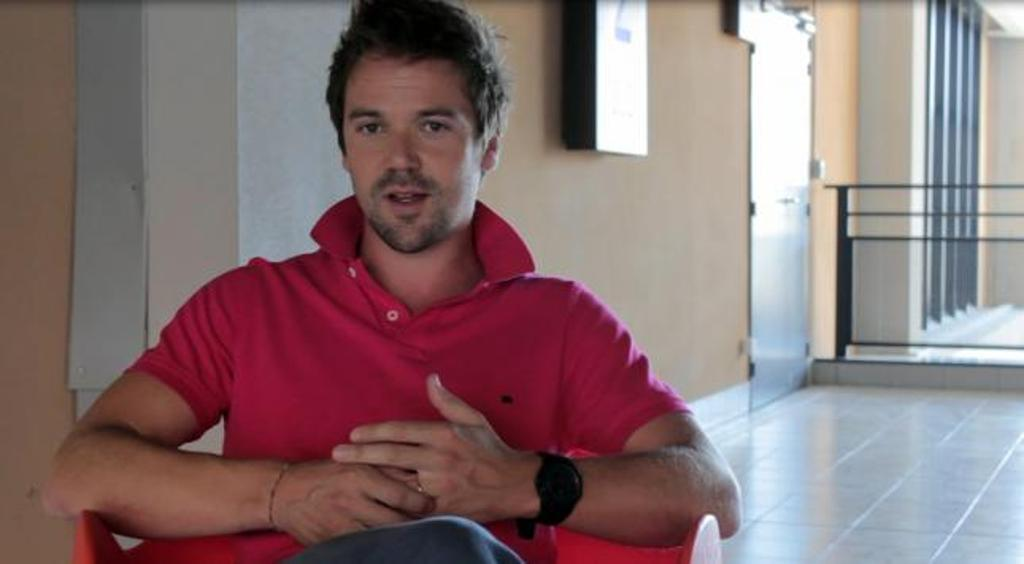face: (344, 60, 474, 254)
